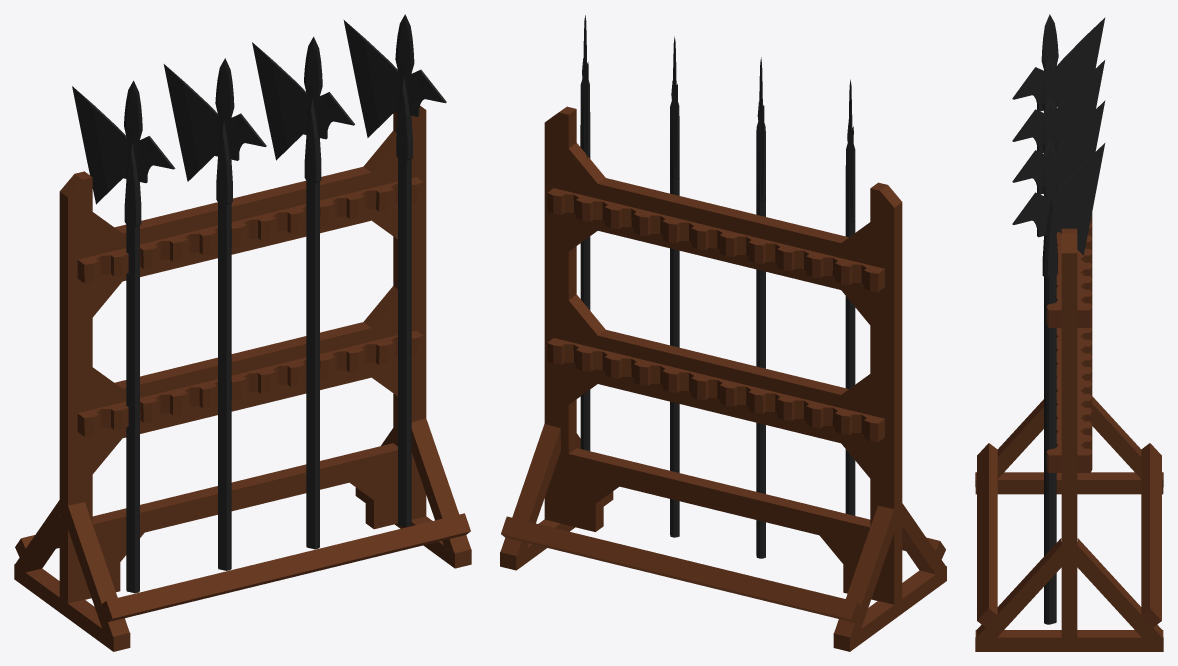
File: Weapons Rack.fbx
The picture shows the model from 3 angles, left to right: view 1: azimuth 30°, elevation 25°; view 2: azimuth 150°, elevation 25°; view 3: azimuth 270°, elevation 25°; orthographic projection. The views are drawn at different scales.
Parts seen in each view (by area): view 1: Cube, Cube.002; view 2: Cube, Cube.002; view 3: Cube, Cube.002.
Part boxes in pixels (x1,y1,x2,y2): Cube: (14,105,471,651); Cube.002: (72,14,446,593); Cube: (500,106,946,651); Cube.002: (580,15,855,558); Cube: (975,212,1163,651); Cube.002: (1012,14,1105,624).
Bounding box in the file's own units: 896 × 1262 × 430.
